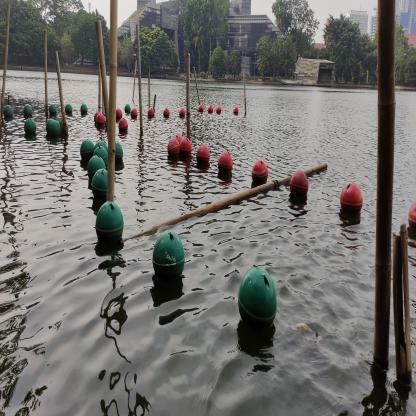green_buoy: (237, 262, 278, 332), (151, 231, 186, 280), (95, 200, 126, 244), (87, 155, 107, 182), (91, 169, 108, 199), (80, 138, 95, 162), (93, 146, 108, 168), (24, 118, 37, 136), (114, 140, 124, 162), (49, 120, 61, 138), (58, 119, 69, 134), (22, 104, 34, 117), (94, 140, 108, 151), (3, 105, 14, 119), (46, 118, 54, 135), (48, 103, 58, 116), (64, 102, 74, 115), (80, 102, 88, 115), (124, 103, 131, 114)
red_buoy: (340, 182, 364, 218), (289, 168, 310, 198), (251, 158, 269, 186), (217, 149, 233, 175), (196, 142, 210, 166), (166, 136, 180, 158), (407, 199, 416, 233), (180, 137, 192, 158), (118, 117, 129, 132), (96, 113, 105, 127), (173, 135, 182, 146), (130, 107, 138, 119), (147, 106, 155, 118), (94, 111, 101, 124), (176, 130, 185, 140), (116, 107, 122, 120), (179, 106, 185, 118), (163, 107, 170, 117), (208, 104, 213, 114), (216, 104, 221, 114), (198, 104, 204, 112), (233, 106, 239, 114)
